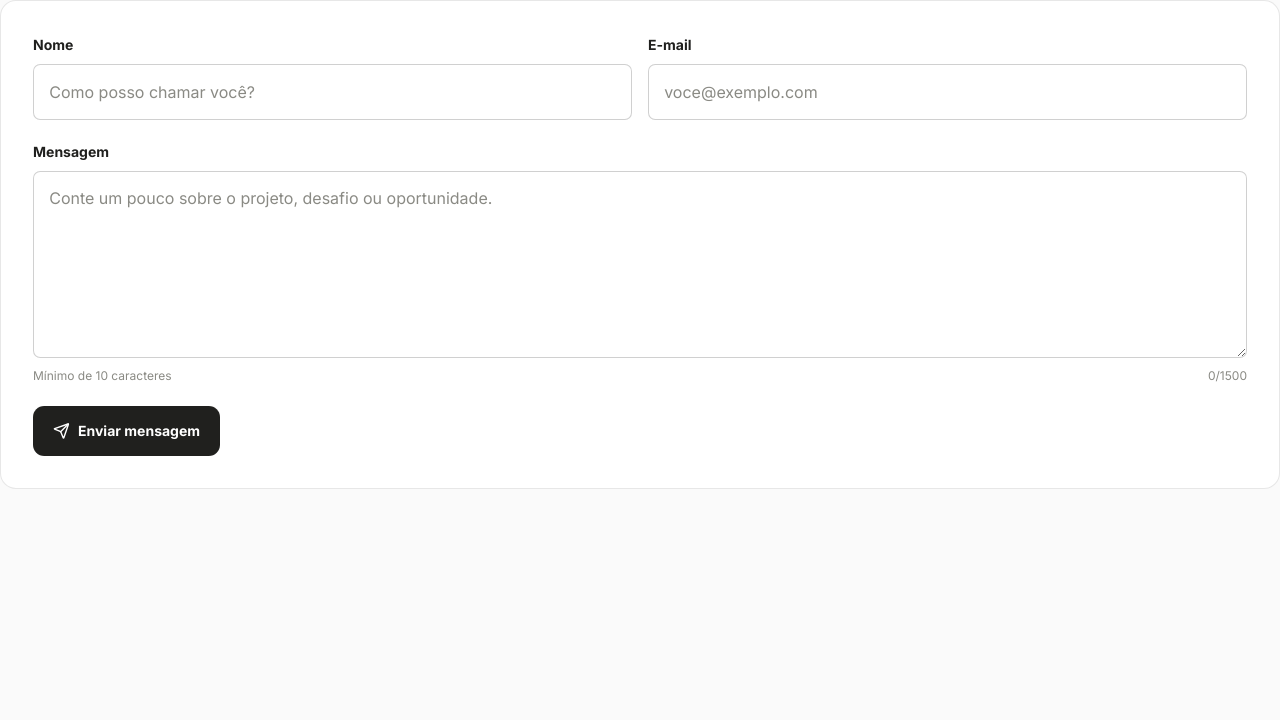
it: ContactForm › mostra erros acessíveis para campos inválidos
The width and height of the screenshot is (1280, 720).
Click the button "Enviar mensagem": (127, 431) [33,406,220,456]
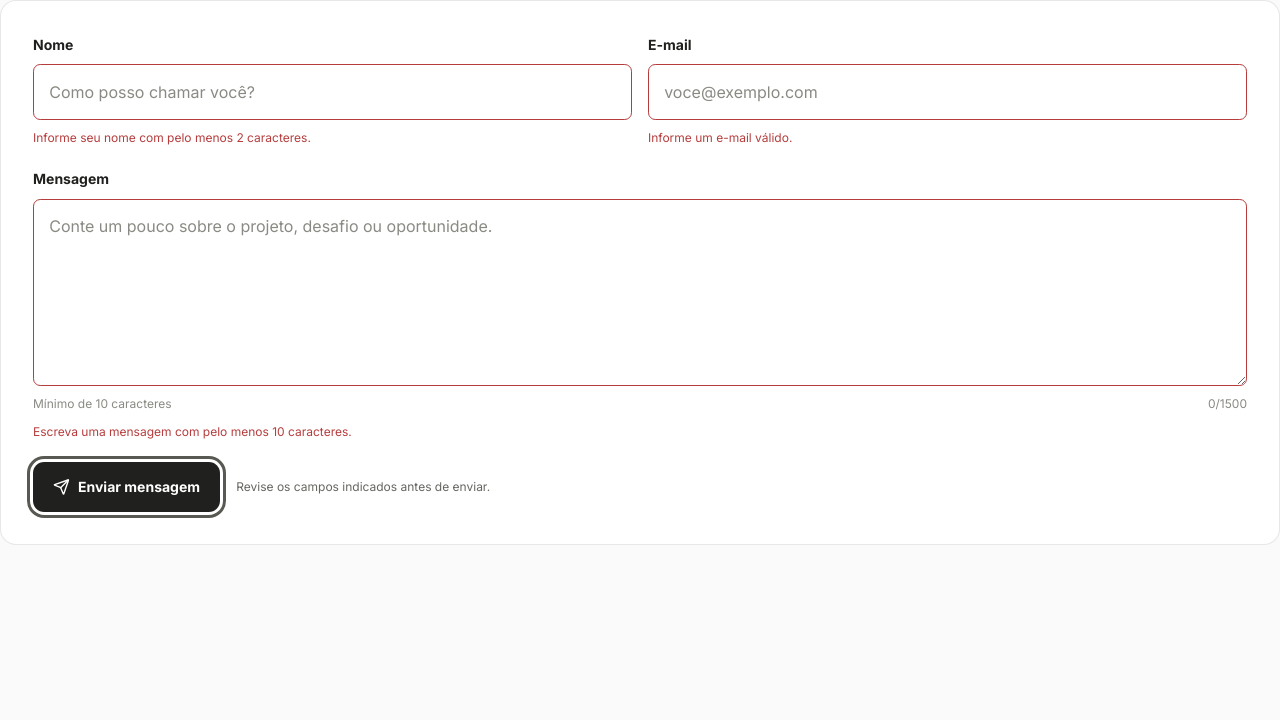
Result: the text "Informe seu nome com pelo menos 2 caracteres." is shown at [33,130,311,145]
Result: the text "Informe um e-mail válido." is shown at [648,130,792,145]
